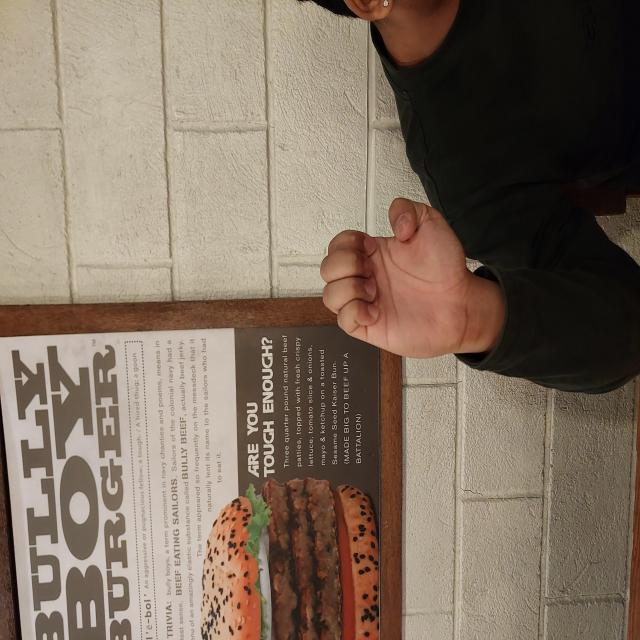E: (279, 318, 446, 469)
